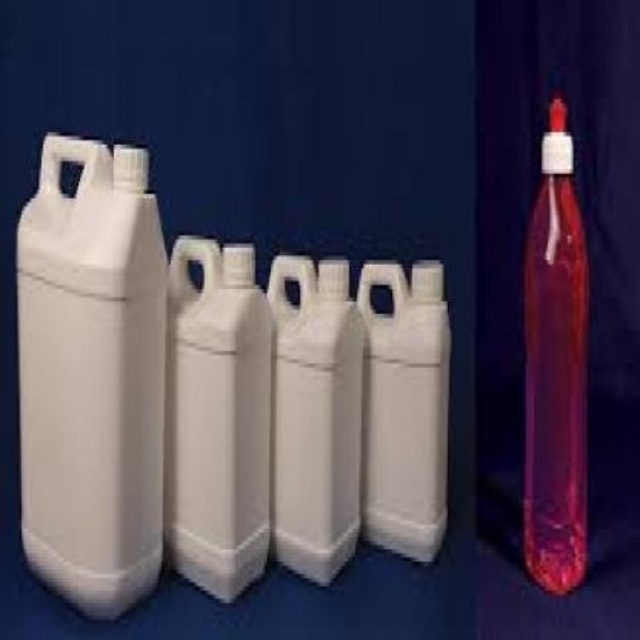trash: (17, 134, 448, 617), (17, 134, 166, 617), (171, 235, 271, 600), (523, 94, 588, 592), (268, 255, 363, 585), (357, 260, 448, 560)
